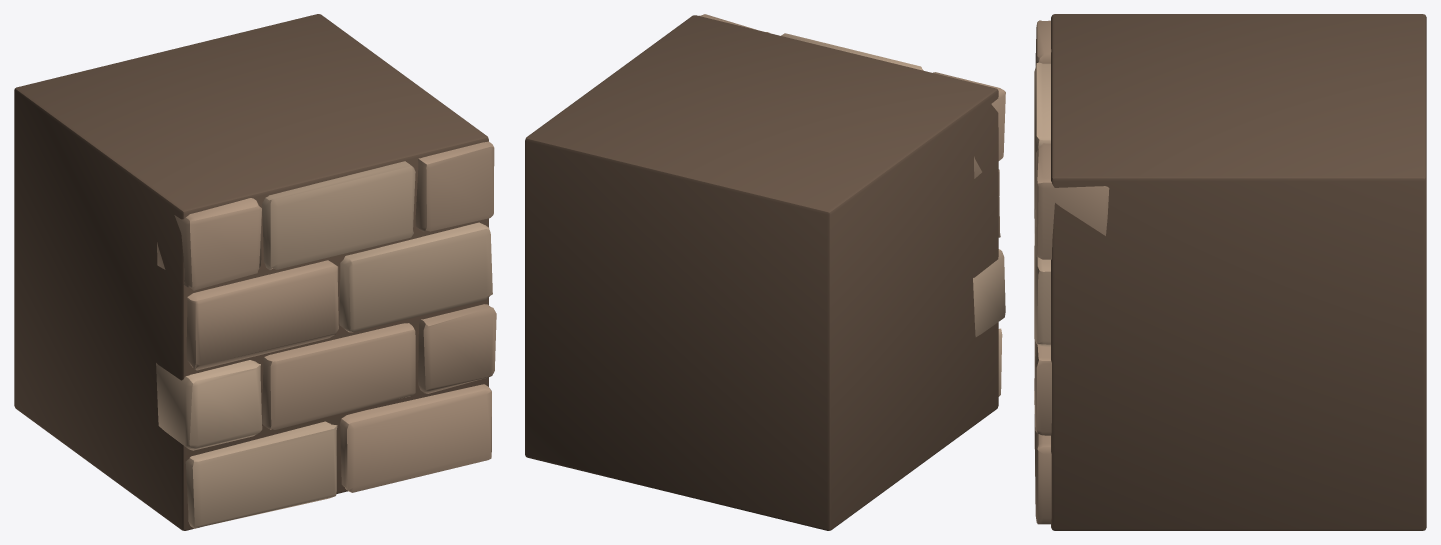
The model's file is tile_brick.glb.
The picture shows the model from 3 angles, left to right: view 1: azimuth 30°, elevation 25°; view 2: azimuth 150°, elevation 25°; view 3: azimuth 270°, elevation 25°; orthographic projection. The views are drawn at different scales.
Visible parts, largest first — view 1: tile_brick; view 2: tile_brick; view 3: tile_brick.
Boxes of the visible parts, <box> form: tile_brick: <box>14,14,496,530</box>; tile_brick: <box>525,14,1005,530</box>; tile_brick: <box>1034,14,1426,530</box>.
Size of the model in its own units: 1.01 by 1 by 1.
